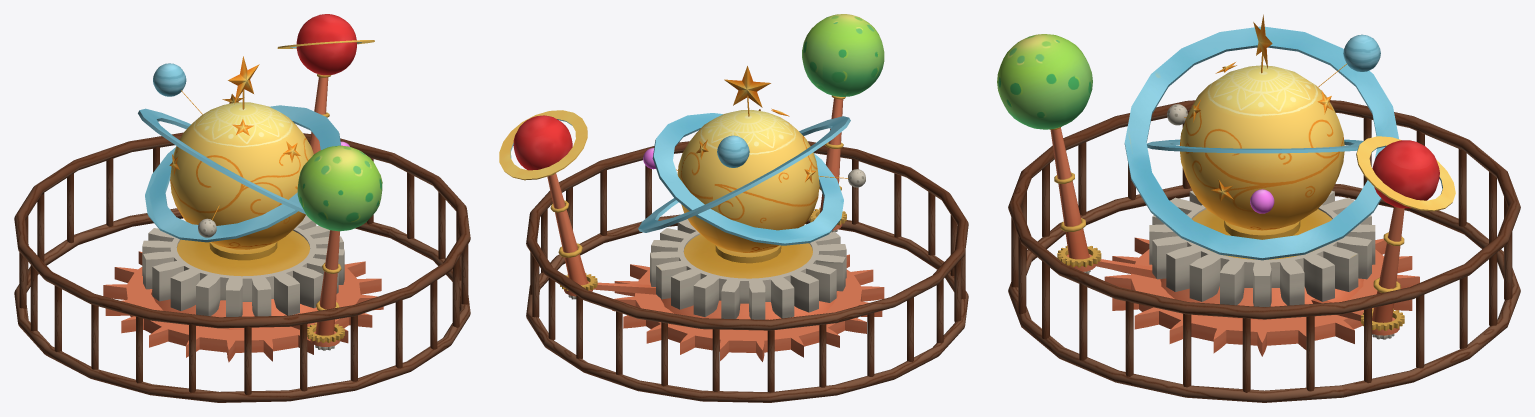
Rendered from PVB export planetarium final.fbx.
3 views of the same model, side by side, from view 1: azimuth 30°, elevation 25°; view 2: azimuth 150°, elevation 25°; view 3: azimuth 270°, elevation 25° (orthographic). The views are drawn at different scales.
Parts seen in each view (by area): view 1: base_planet, hek_bovenkant, base_tandwiel_top, hek_onderkant, base_tandwiel_onder, medium_planet, small_circle, base_in_middle, small_planet_with_cirkel, large_circle, staaf_voor_planeet_1, stand_1 (+22 smaller); view 2: base_planet, base_tandwiel_top, hek_bovenkant, hek_onderkant, base_tandwiel_onder, small_circle, medium_planet, base_in_middle, small_planet_with_cirkel, large_circle, cirkel_om_planeet, staaf_voor_planeet_2 (+20 smaller); view 3: base_planet, large_circle, base_tandwiel_top, hek_bovenkant, hek_onderkant, base_tandwiel_onder, medium_planet, small_planet_with_cirkel, cirkel_om_planeet, staaf_voor_planeet_1, base_in_middle, staaf_voor_planeet_2 (+23 smaller).
Part boxes in pixels (left/top/right/bottom): base_planet: left=170, top=102, right=313, bottom=249; hek_bovenkant: left=14, top=132, right=470, bottom=328; base_tandwiel_top: left=142, top=215, right=344, bottom=316; hek_onderkant: left=14, top=208, right=470, bottom=402; base_tandwiel_onder: left=103, top=251, right=383, bottom=362; medium_planet: left=297, top=145, right=382, bottom=231; small_circle: left=145, top=105, right=340, bottom=242; base_in_middle: left=177, top=230, right=309, bottom=276; small_planet_with_cirkel: left=296, top=14, right=356, bottom=75; large_circle: left=138, top=108, right=305, bottom=214; staaf_voor_planeet_1: left=315, top=230, right=339, bottom=335; stand_1: left=151, top=290, right=317, bottom=329; base_planet: left=677, top=110, right=819, bottom=252; base_tandwiel_top: left=650, top=219, right=846, bottom=319; hek_bovenkant: left=526, top=141, right=968, bottom=330; hek_onderkant: left=526, top=214, right=968, bottom=402; base_tandwiel_onder: left=612, top=254, right=884, bottom=361; small_circle: left=652, top=113, right=843, bottom=245; medium_planet: left=802, top=14, right=884, bottom=96; base_in_middle: left=683, top=234, right=812, bottom=278; small_planet_with_cirkel: left=513, top=115, right=572, bottom=170; large_circle: left=638, top=116, right=850, bottom=232; cirkel_om_planeet: left=499, top=110, right=587, bottom=180; staaf_voor_planeet_2: left=547, top=173, right=588, bottom=285; base_planet: left=1179, top=65, right=1344, bottom=230; large_circle: left=1124, top=26, right=1398, bottom=260; base_tandwiel_top: left=1149, top=190, right=1375, bottom=306; hek_bovenkant: left=1008, top=100, right=1520, bottom=319; hek_onderkant: left=1008, top=183, right=1520, bottom=402; base_tandwiel_onder: left=1104, top=237, right=1419, bottom=356; medium_planet: left=997, top=34, right=1092, bottom=129; small_planet_with_cirkel: left=1372, top=140, right=1439, bottom=208; cirkel_om_planeet: left=1356, top=136, right=1455, bottom=211; staaf_voor_planeet_1: left=1050, top=127, right=1089, bottom=259; base_in_middle: left=1192, top=209, right=1332, bottom=259; staaf_voor_planeet_2: left=1372, top=206, right=1404, bottom=322.
Bounding box in the file's own units: 30.55 × 18.59 × 31.2.
3 materials, 3 textured.
